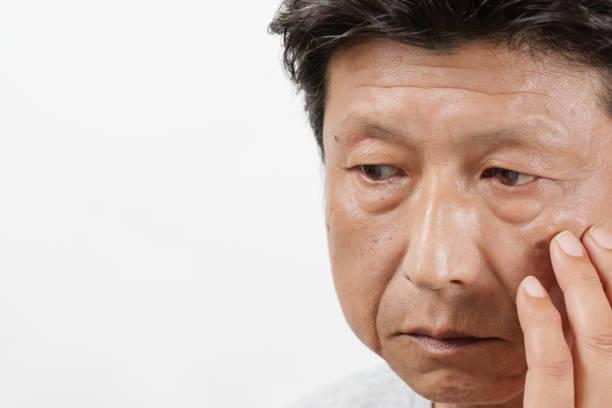Dry-Skin: (338, 56, 569, 134)
